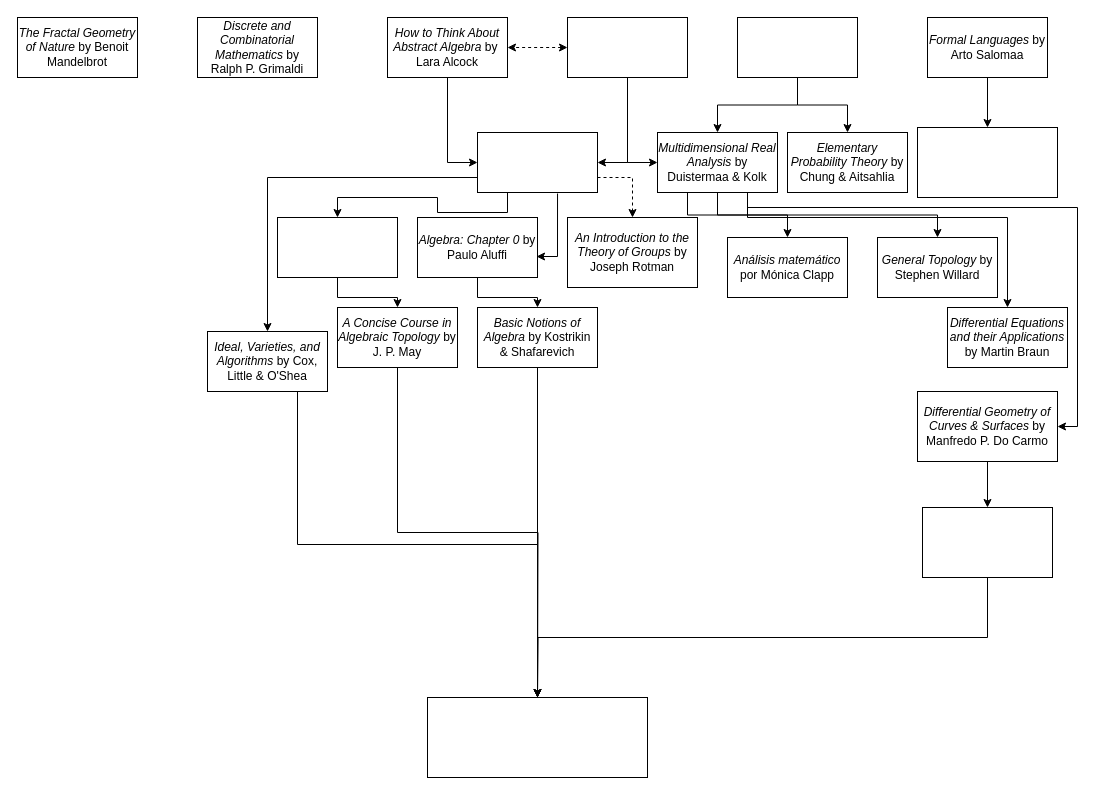
The diagram is 1103 pixels wide and 795 high, and some of its shapes have lost their labels. The centre of each missing label's shape, as x and y in pixels:
"Algebra by MacLane & Birkhoff" goes at pixel 537 162.
"Category Theory in Context by Emily Riehl" goes at pixel 337 247.
"Commutative Algebra with a View Toward Algebraic Geometry by David Eisenbund" goes at pixel 537 737.
"Introduction to Automata Theory, Language, and Computation by Hopcroft & Motwani" goes at pixel 987 162.
"Introduction to Real Analysis by Bartle & Sherbert" goes at pixel 797 47.
"Linear Algebra Done Right by Sheldon Axler" goes at pixel 627 47.
"Manifolds and Differential Geometry by Jeffrey M. Lee" goes at pixel 987 542.
